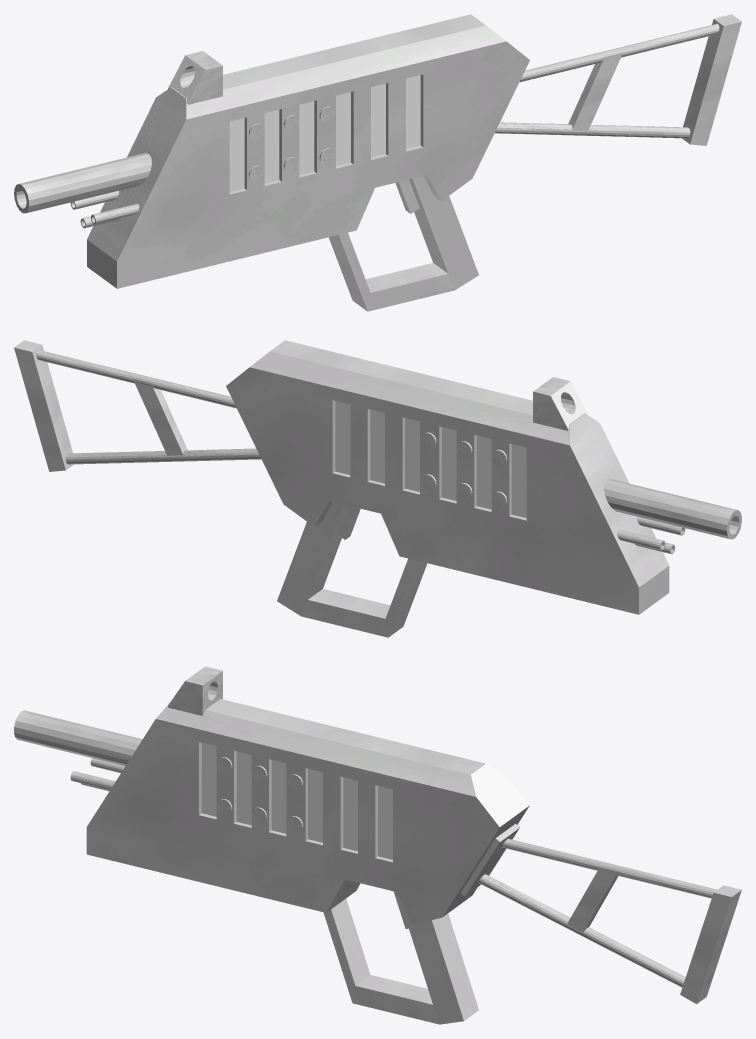
Rendered from D-12-Standard-Riffle-Body.fbx.
The picture shows the model from 3 angles, top to bottom: view 1: azimuth 30°, elevation 25°; view 2: azimuth 150°, elevation 25°; view 3: azimuth 330°, elevation 25°; orthographic projection.
Parts seen in each view (by area): view 1: node_id8 (×3); view 2: node_id8 (×3); view 3: node_id8 (×3).
Part boxes in pixels (x1,y1,x2,y2): node_id8 (×3): (14,14,741,311); node_id8 (×3): (14,340,741,637); node_id8 (×3): (14,666,741,1024).
Bounding box in the file's own units: 0.512 × 0.1941 × 0.0399.
Materials: 3 (2 with a texture image).
